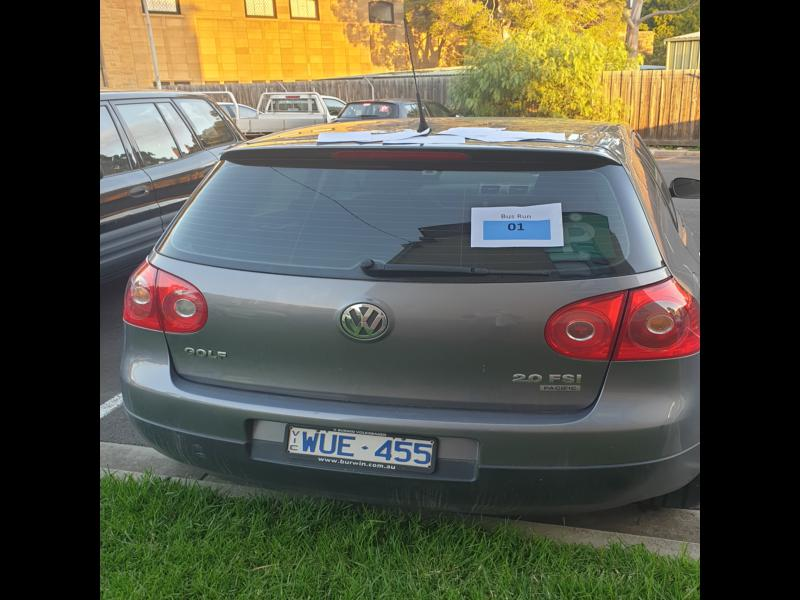BusRun: (481, 218, 552, 242)
PlateNo: (285, 424, 437, 474)
